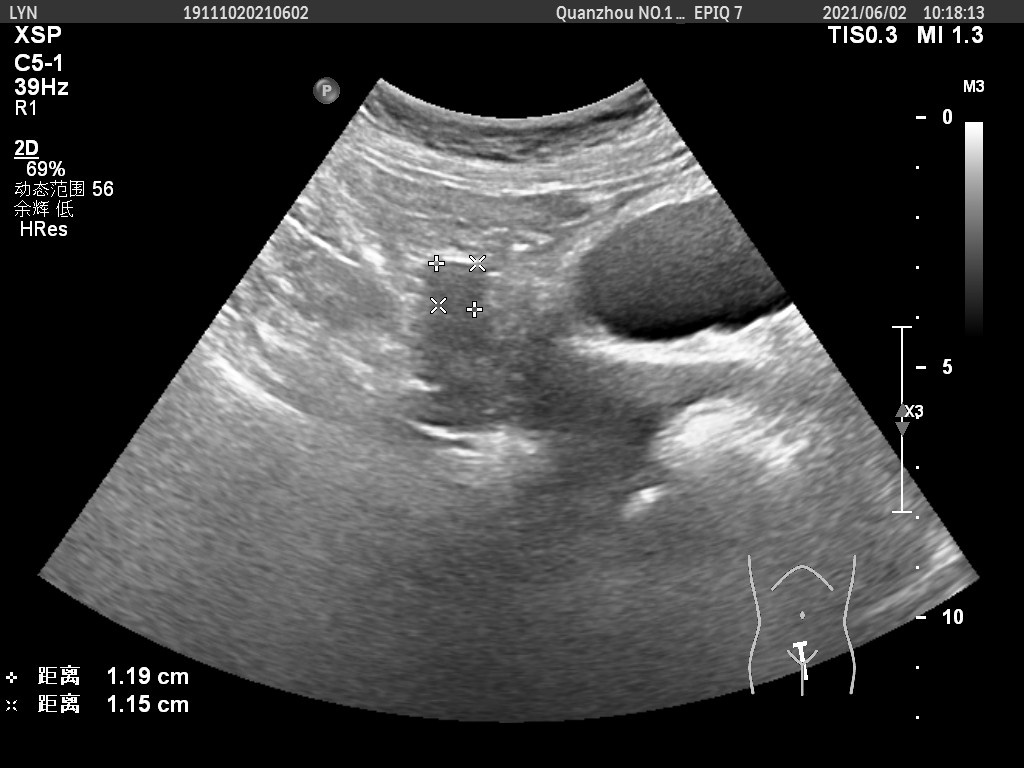肌瘤: (433, 259, 479, 311)
